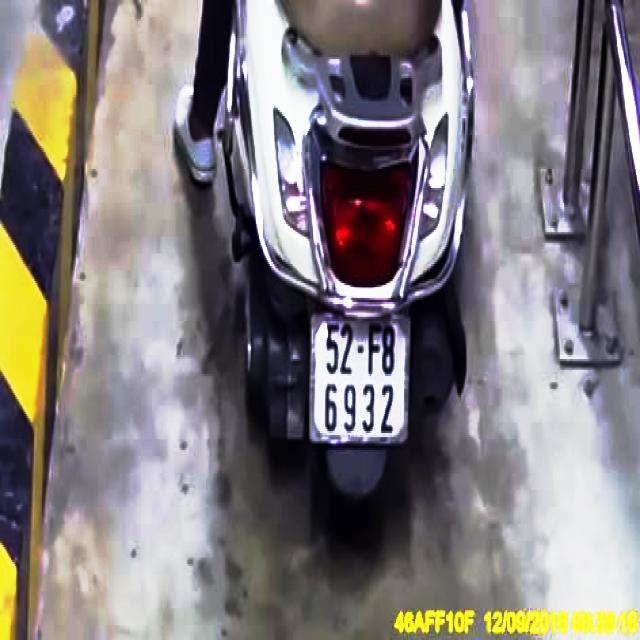license_plate: (313, 317, 412, 443)
